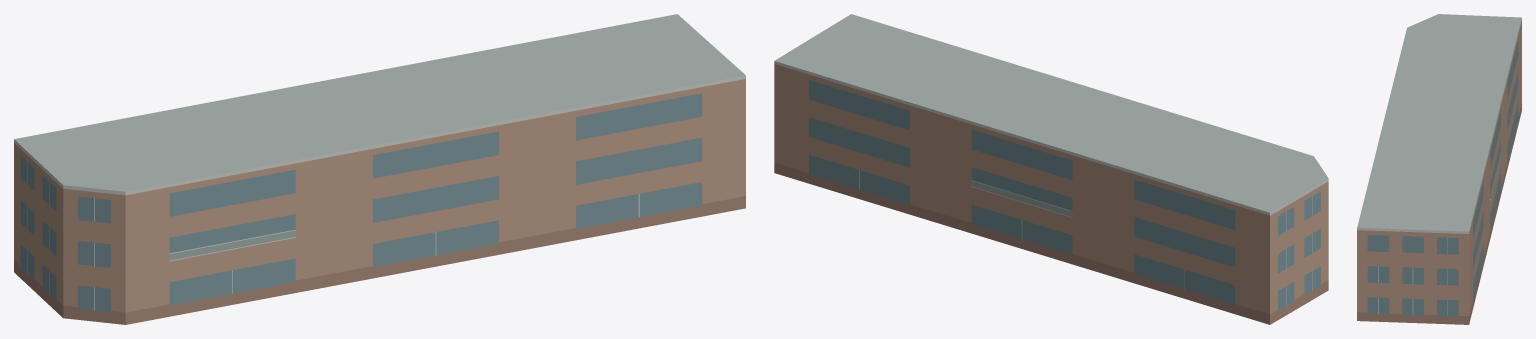
File: survey-upis-32471120.glb
3 views of the same model, side by side, from view 1: azimuth 30°, elevation 25°; view 2: azimuth 150°, elevation 25°; view 3: azimuth 270°, elevation 25° (orthographic). The views are drawn at different scales.
Parts seen in each view (by area): view 1: survey-upis-32471120.tmp; view 2: survey-upis-32471120.tmp; view 3: survey-upis-32471120.tmp.
Boxes of the visible parts, x1,y1,x2,y2 form: survey-upis-32471120.tmp: (14, 14, 745, 324); survey-upis-32471120.tmp: (774, 14, 1328, 324); survey-upis-32471120.tmp: (1357, 14, 1521, 324).
Size of the model in its own units: 45.77 by 9.15 by 14.65.
